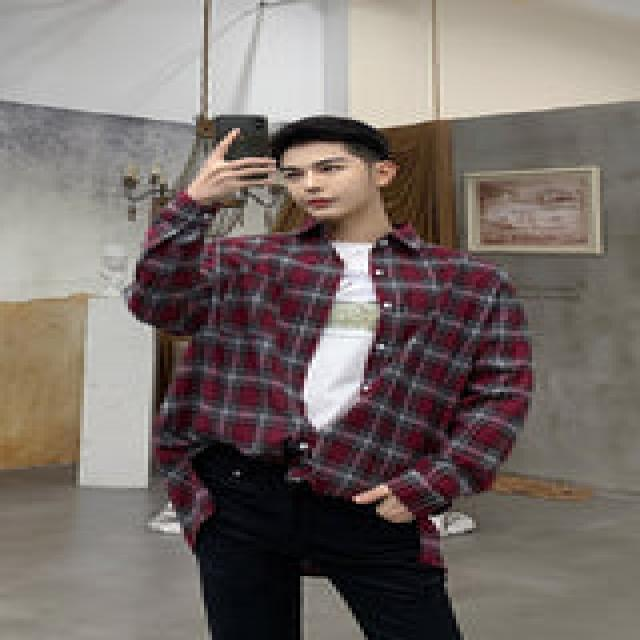plaid: (121, 202, 544, 516)
